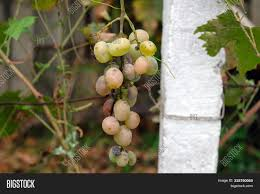grapes: (92, 28, 160, 144)
